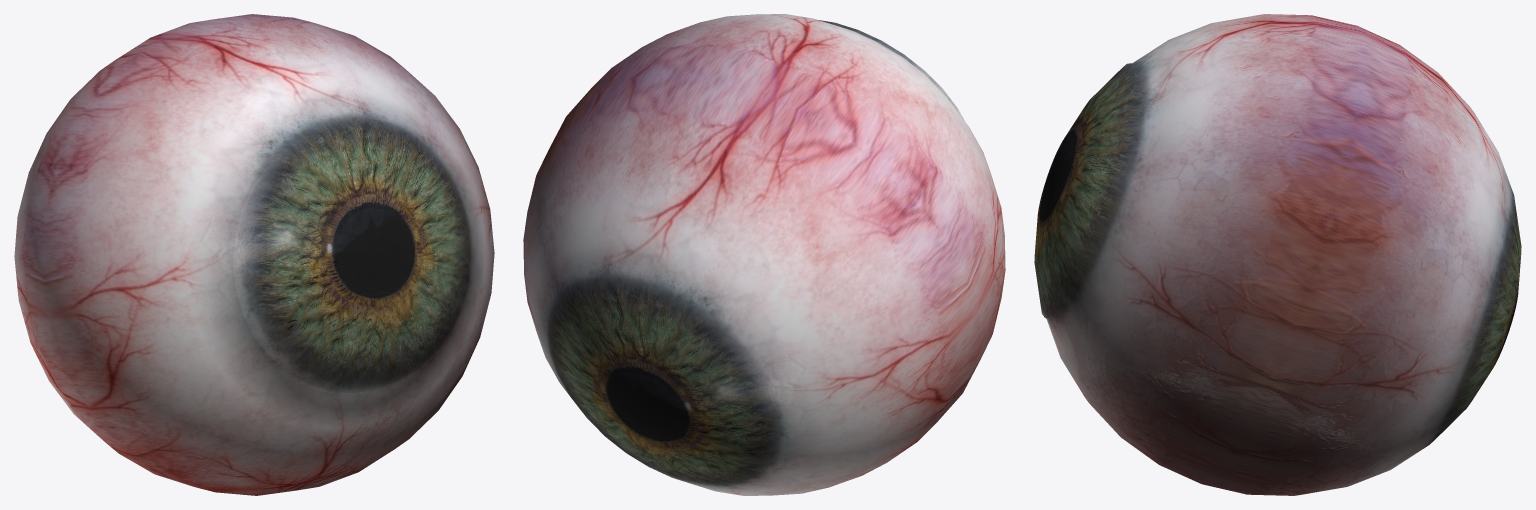
The model's file is Eye.glb.
3 views of the same model, side by side, from view 1: azimuth 30°, elevation 25°; view 2: azimuth 150°, elevation 25°; view 3: azimuth 270°, elevation 25° (orthographic).
Parts seen in each view (by area): view 1: Sphere; view 2: Sphere; view 3: Sphere.
Part boxes in pixels (left/top/right/bottom): Sphere: left=14, top=14, right=494, bottom=495; Sphere: left=523, top=14, right=1005, bottom=495; Sphere: left=1034, top=14, right=1521, bottom=495.
Size of the model in its own units: 2.02 by 2.02 by 2.04.
1 material, 1 textured.
